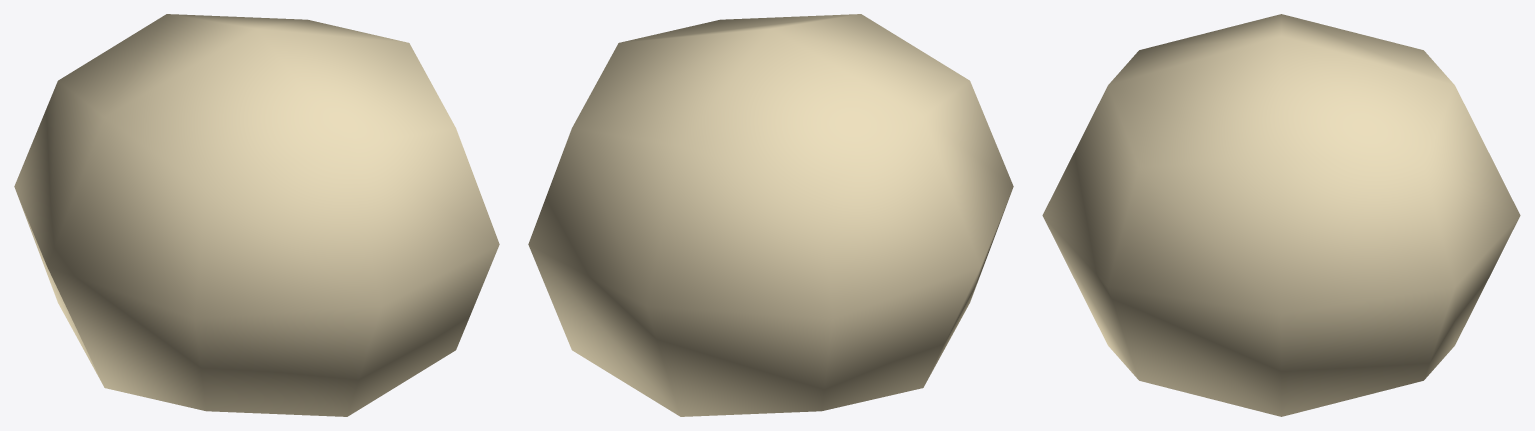
The model's file is dough-ball.glb.
The picture shows the model from 3 angles, left to right: view 1: azimuth 30°, elevation 25°; view 2: azimuth 150°, elevation 25°; view 3: azimuth 270°, elevation 25°; orthographic projection. The views are drawn at different scales.
Parts seen in each view (by area): view 1: DoughBall.001; view 2: DoughBall.001; view 3: DoughBall.001.
Part boxes in pixels (box(x1,y1,x2,y2)): DoughBall.001: box(14, 14, 499, 416); DoughBall.001: box(528, 14, 1013, 416); DoughBall.001: box(1042, 14, 1520, 416).
Bounding box in the file's own units: 0.2627 × 0.2015 × 0.2697.
1 material, 1 textured.
